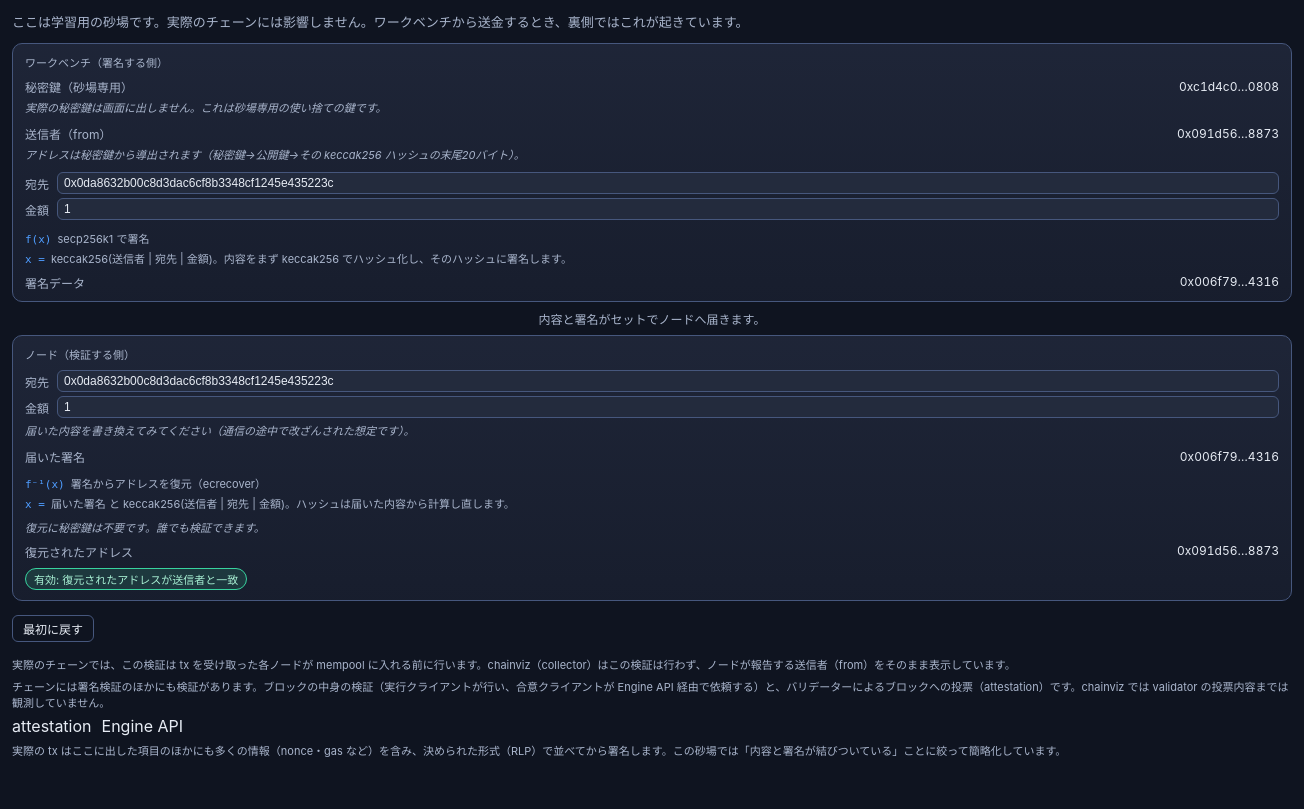
Test case: SignatureDemoView: tampering the received content breaks verification › shows the invalid badge and both resign buttons after editing the received amount
This screenshot has width=1304, height=809.
Replace the text in the field with test id "signature-demo-received-amount" with "999" at (668, 407), box left=57, top=396, right=1279, bottom=418
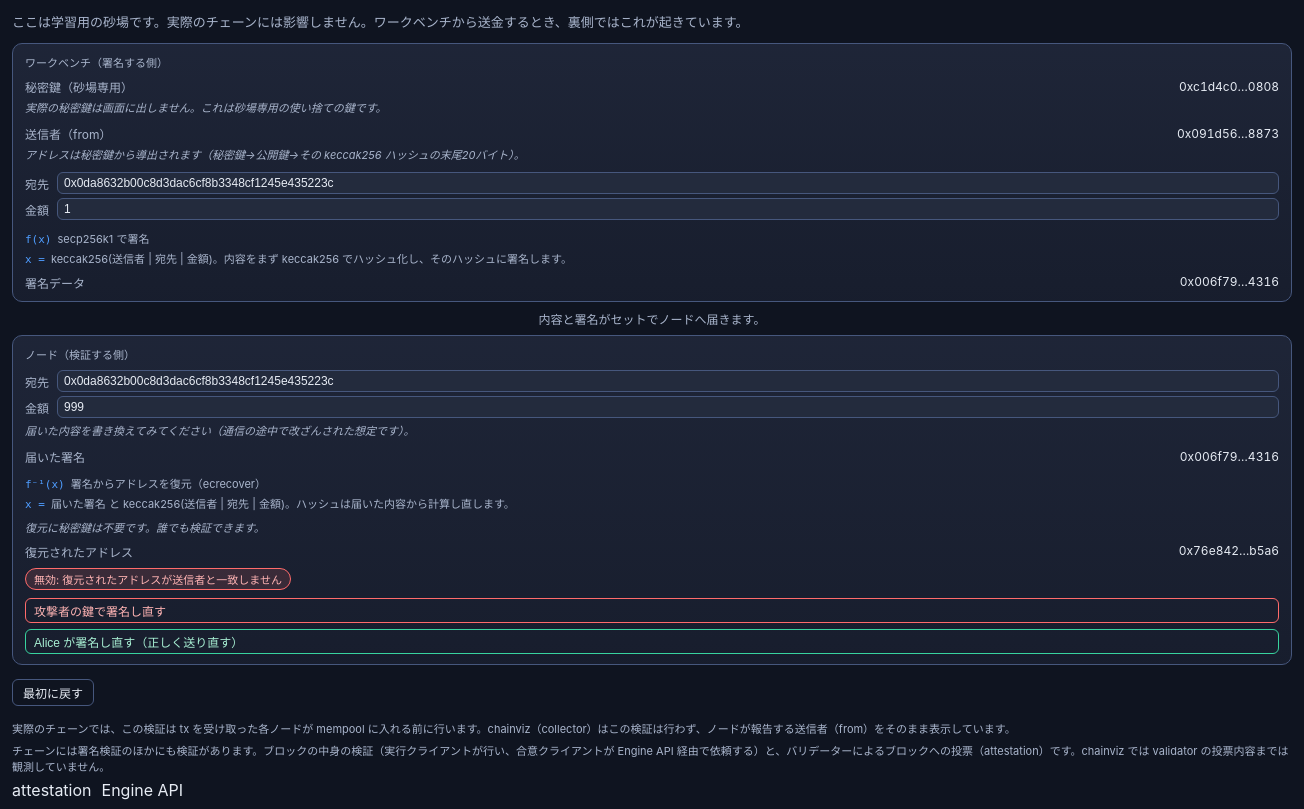
expect the text with test id "signature-demo-badge" reads "無効: 復元されたアドレスが送信者と一致しません": met, box left=34, top=573, right=282, bottom=587
expect the button with test id "signature-demo-resign-attacker" is shown: met, box left=25, top=598, right=1279, bottom=623
expect the button with test id "signature-demo-resign-alice" is shown: met, box left=25, top=629, right=1279, bottom=654
